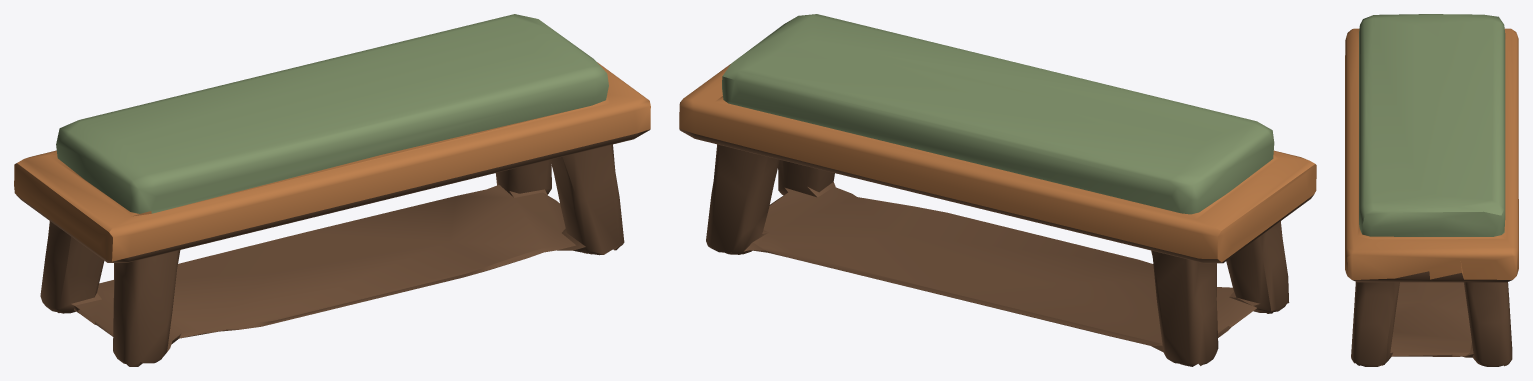
Rendered from bench.glb.
The picture shows the model from 3 angles, left to right: view 1: azimuth 30°, elevation 25°; view 2: azimuth 150°, elevation 25°; view 3: azimuth 270°, elevation 25°; orthographic projection. The views are drawn at different scales.
Visible parts, largest first — view 1: bench_pad, bench_dark, bench_wood; view 2: bench_pad, bench_dark, bench_wood; view 3: bench_pad, bench_dark, bench_wood.
Boxes of the visible parts, bbox=[...] form: bench_pad: bbox=[56, 14, 608, 213]; bench_dark: bbox=[16, 129, 650, 366]; bench_wood: bbox=[14, 62, 650, 261]; bench_pad: bbox=[722, 14, 1274, 214]; bench_dark: bbox=[679, 129, 1313, 366]; bench_wood: bbox=[679, 64, 1316, 262]; bench_pad: bbox=[1359, 14, 1505, 236]; bench_dark: bbox=[1346, 271, 1512, 366]; bench_wood: bbox=[1345, 28, 1518, 279].
Size of the model in its own units: 1.85 by 0.5899 by 0.5999.
